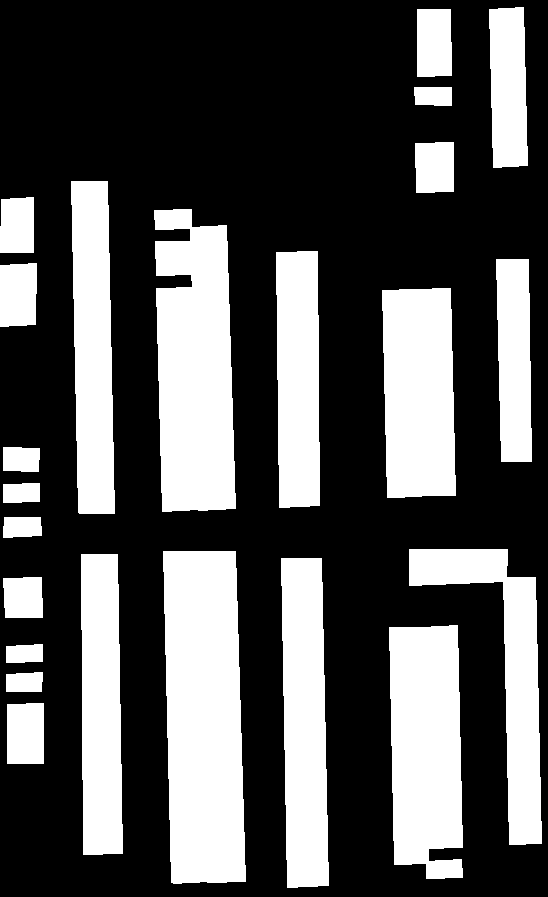parkingspot: (281, 558, 328, 887), (199, 551, 245, 882), (163, 551, 208, 883), (71, 181, 114, 513), (190, 225, 235, 510), (81, 554, 122, 854), (276, 251, 319, 507), (503, 577, 541, 844), (156, 287, 199, 511), (389, 627, 428, 864), (421, 625, 462, 848), (413, 288, 455, 495), (382, 289, 421, 497), (496, 259, 531, 461), (489, 7, 527, 167), (409, 549, 507, 585), (417, 9, 451, 76), (0, 263, 36, 326), (7, 703, 43, 763), (415, 142, 453, 192), (0, 197, 33, 252), (3, 577, 42, 617), (155, 241, 193, 275), (3, 447, 39, 471), (3, 517, 41, 537), (154, 209, 191, 229), (3, 483, 39, 502), (6, 672, 42, 691), (426, 859, 462, 878), (414, 87, 451, 105), (6, 644, 42, 662)
